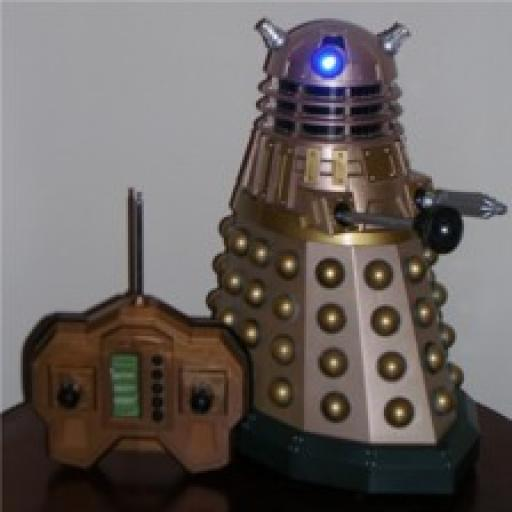dalek: (188, 12, 512, 504)
